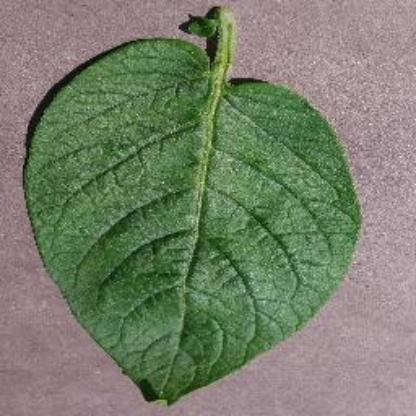Healthy-plant: (6, 13, 370, 395)
